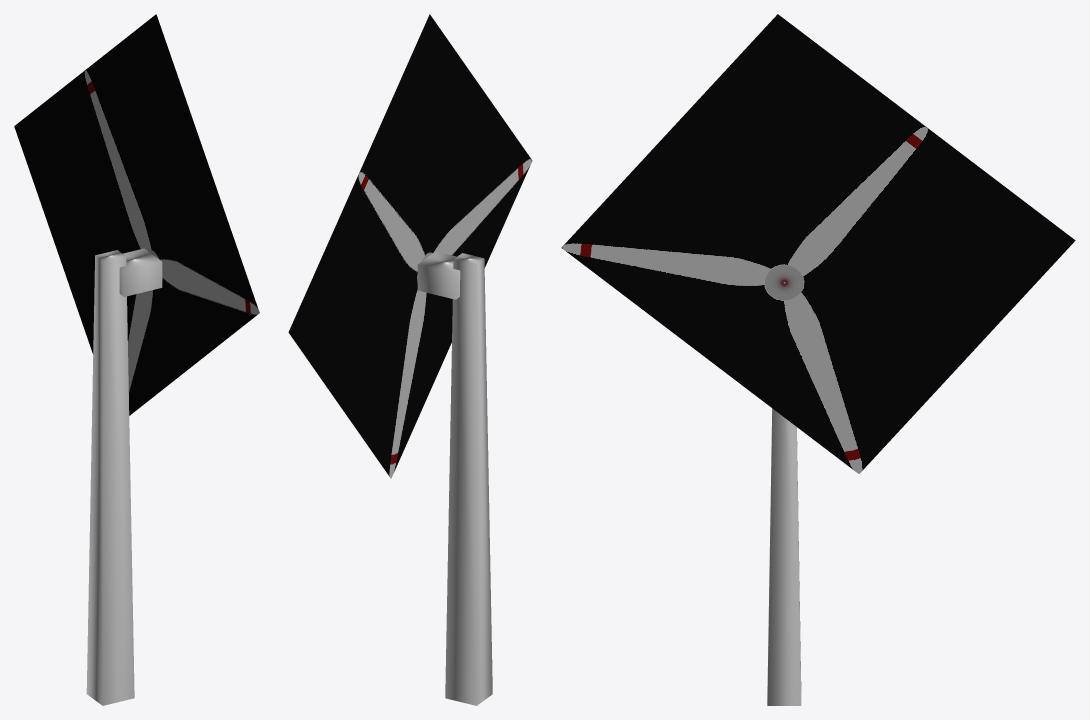
File: mdl_Duc_WindTurbine offset1 1.0.glb
The picture shows the model from 3 angles, left to right: view 1: azimuth 30°, elevation 25°; view 2: azimuth 150°, elevation 25°; view 3: azimuth 270°, elevation 25°; orthographic projection. The views are drawn at different scales.
Parts seen in each view (by area): view 1: Windturbine Blades.001, Cube.001; view 2: Windturbine Blades.001, Cube.001; view 3: Windturbine Blades.001, Cube.001.
Boxes of the visible parts, x1=… form: Windturbine Blades.001: x1=14, y1=14, x2=259, y2=415; Cube.001: x1=86, y1=248, x2=162, y2=705; Windturbine Blades.001: x1=288, y1=14, x2=532, y2=478; Cube.001: x1=417, y1=251, x2=492, y2=705; Windturbine Blades.001: x1=561, y1=14, x2=1075, y2=473; Cube.001: x1=767, y1=408, x2=801, y2=705.
Size of the model in its own units: 0.2099 by 2.31 by 1.53.
Materials: 1 (1 with a texture image).
